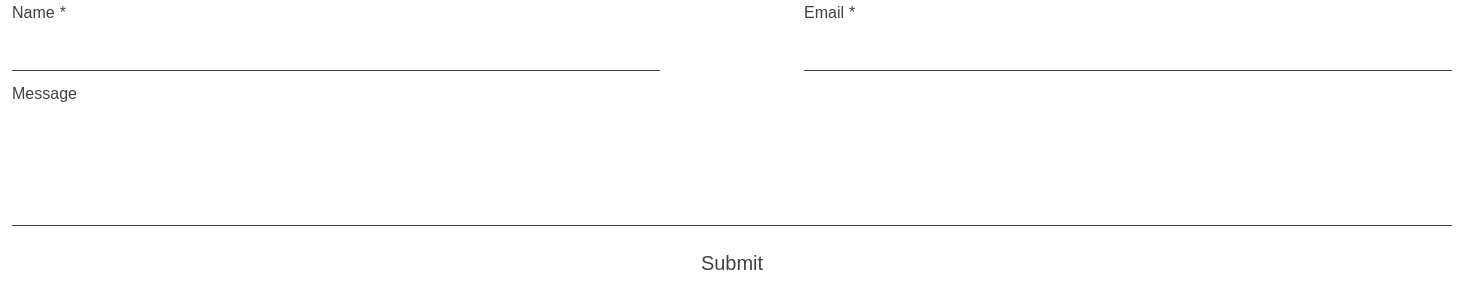
Scenario: ContactForm data entry capability › user is able to enter name in ContactForm
Click the field labelled "Name*" at (336, 48), box [12,26,660,71]
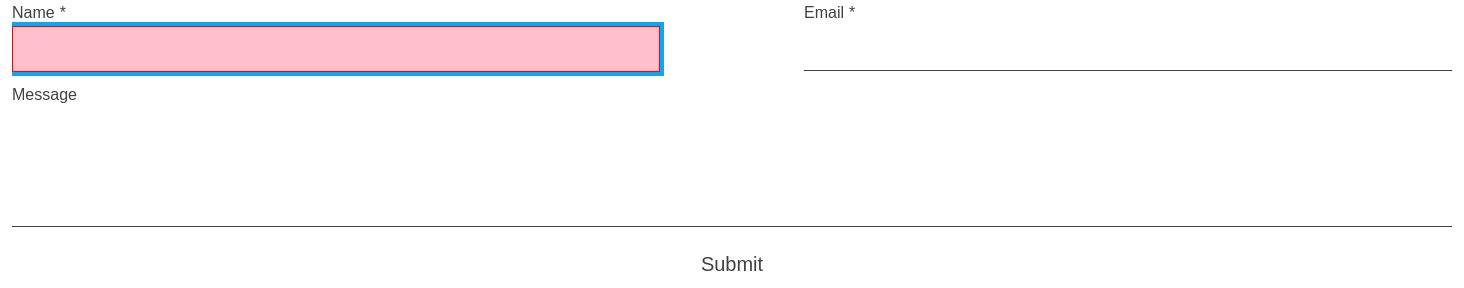
Type keys "Jane"
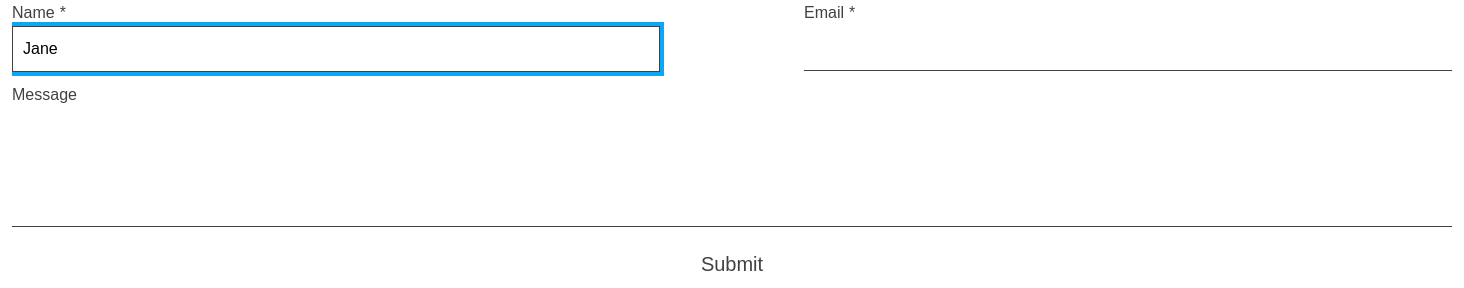
Expected: the field labelled "Name*" holds "Jane", [12,26,660,72]
